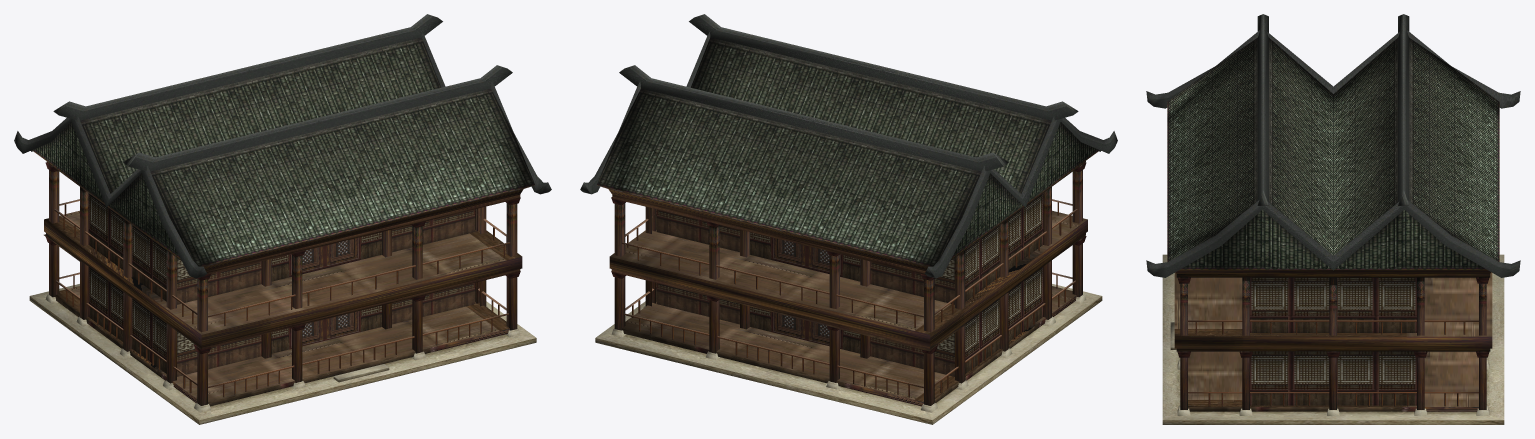
Rendered from c1-033-guesthouse-01_lod_01.fbx.
3 renders of one model, left to right at view 1: azimuth 30°, elevation 25°; view 2: azimuth 150°, elevation 25°; view 3: azimuth 270°, elevation 25°, orthographic.
Parts seen in each view (by area): view 1: c1-033-guesthouse-01, c1-033-guesthouse-02; view 2: c1-033-guesthouse-01, c1-033-guesthouse-02; view 3: c1-033-guesthouse-01, c1-033-guesthouse-02.
Part boxes in pixels (bbox=[...]): c1-033-guesthouse-01: bbox=[14, 14, 551, 412]; c1-033-guesthouse-02: bbox=[29, 164, 536, 424]; c1-033-guesthouse-01: bbox=[580, 14, 1117, 412]; c1-033-guesthouse-02: bbox=[595, 164, 1102, 424]; c1-033-guesthouse-01: bbox=[1146, 14, 1520, 415]; c1-033-guesthouse-02: bbox=[1162, 254, 1504, 424].
Size of the model in its own units: 21.33 by 12.64 by 17.86.
